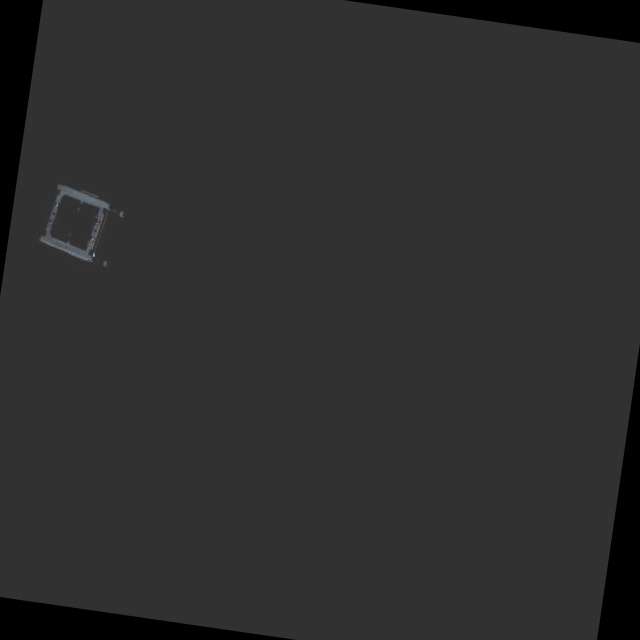satellite: (34, 181, 135, 287)
